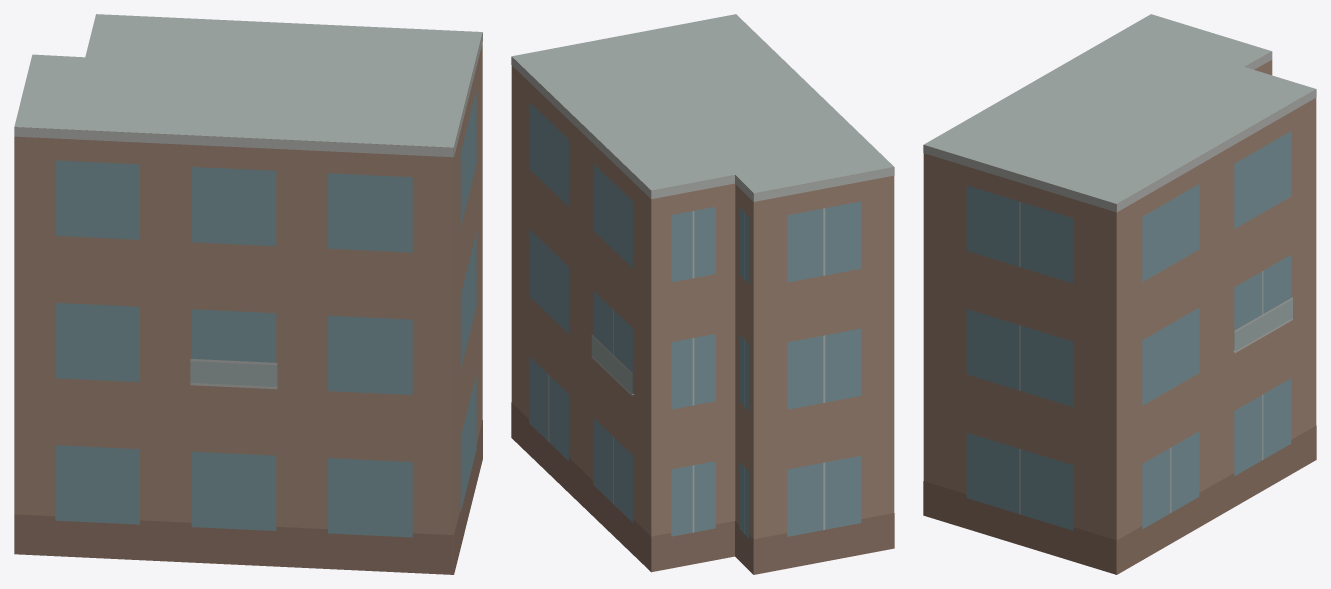
Rendered from survey-upis-32486205.glb.
3 views of the same model, side by side, from view 1: azimuth 30°, elevation 25°; view 2: azimuth 150°, elevation 25°; view 3: azimuth 270°, elevation 25° (orthographic). The views are drawn at different scales.
Visible parts, largest first — view 1: survey-upis-32486205.tmp; view 2: survey-upis-32486205.tmp; view 3: survey-upis-32486205.tmp.
Part boxes in pixels (<box>): survey-upis-32486205.tmp: <box>14,14,482,574</box>; survey-upis-32486205.tmp: <box>511,14,894,574</box>; survey-upis-32486205.tmp: <box>923,14,1316,574</box>.
Size of the model in its own units: 11.88 by 10.8 by 10.38.
